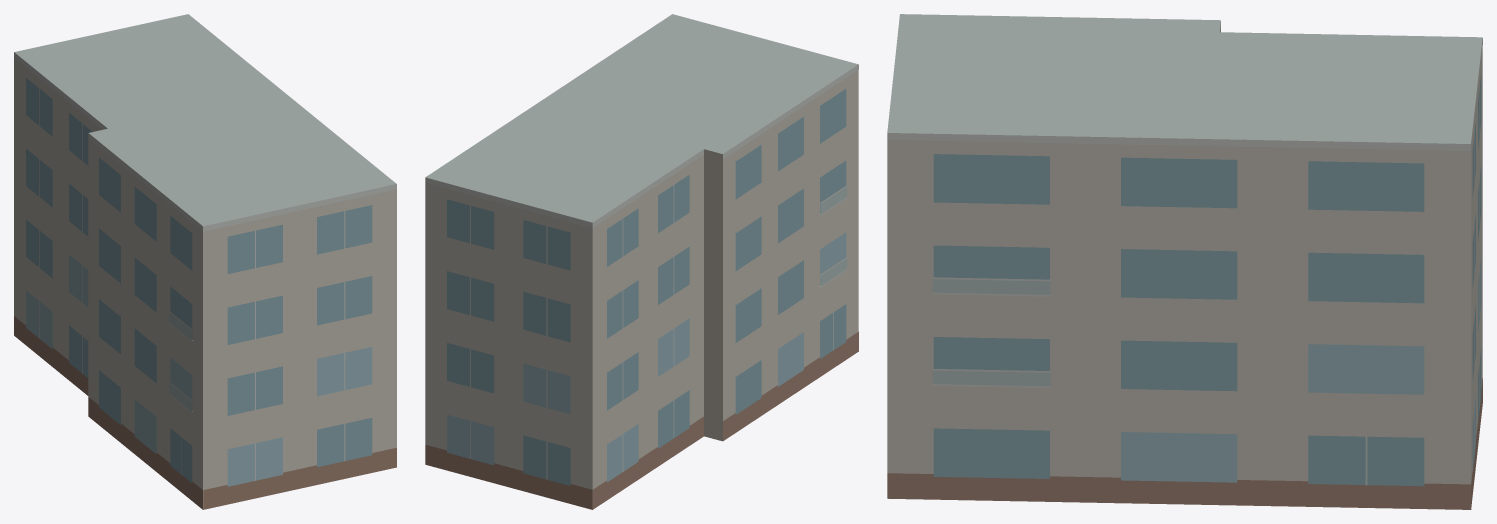
The model's file is survey-upis-32816604.glb.
3 views of the same model, side by side, from view 1: azimuth 30°, elevation 25°; view 2: azimuth 150°, elevation 25°; view 3: azimuth 270°, elevation 25° (orthographic). The views are drawn at different scales.
Parts seen in each view (by area): view 1: survey-upis-32816604.tmp; view 2: survey-upis-32816604.tmp; view 3: survey-upis-32816604.tmp.
Boxes of the visible parts, bbox=[...] form: survey-upis-32816604.tmp: bbox=[14, 14, 396, 509]; survey-upis-32816604.tmp: bbox=[425, 14, 858, 509]; survey-upis-32816604.tmp: bbox=[887, 14, 1482, 509].
Bounding box in the file's own units: 9.85 × 12.9 × 19.04.
